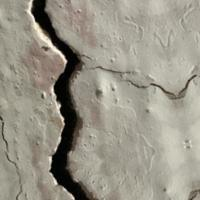crack: (18, 0, 125, 199)
